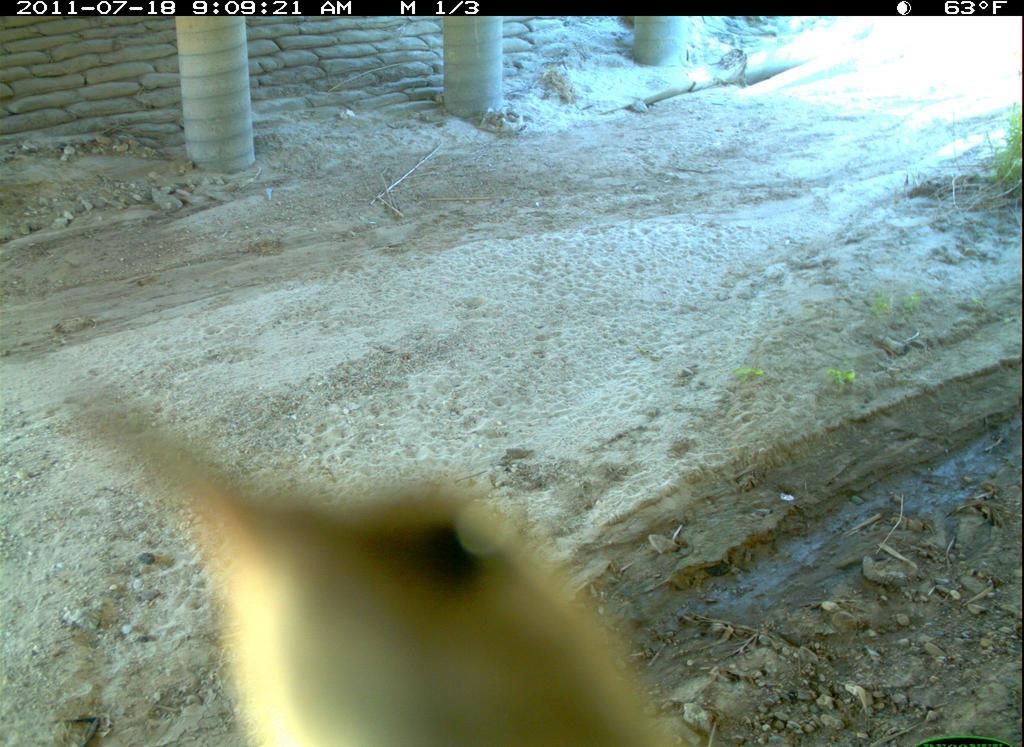bird: (77, 383, 698, 747)
